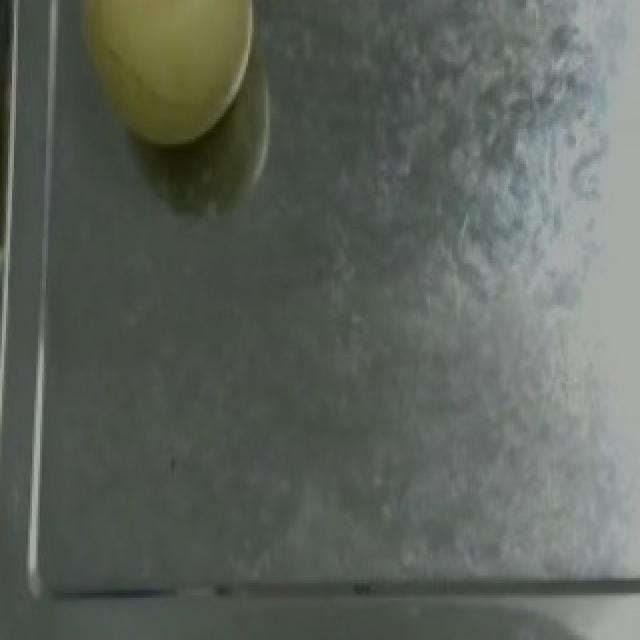Fruit: (64, 0, 266, 156)
